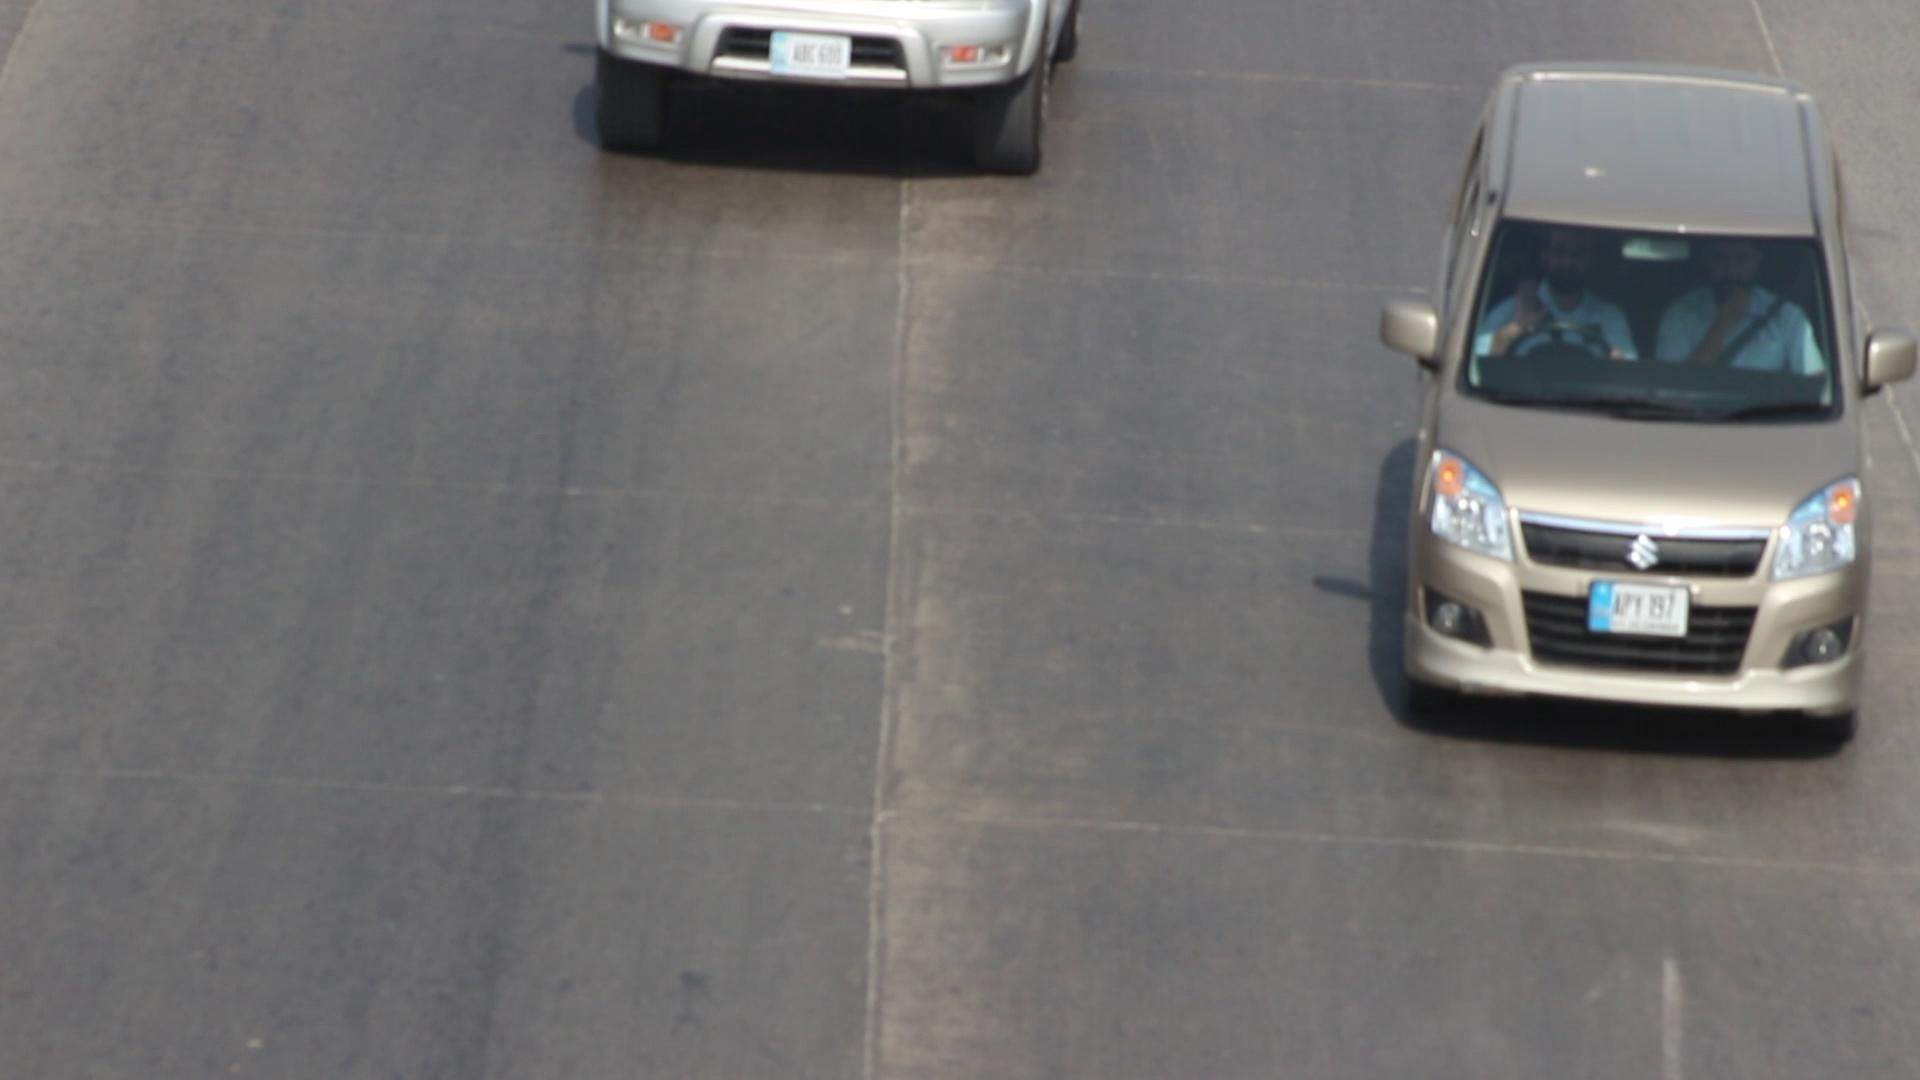windshield: (1440, 203, 1861, 440)
